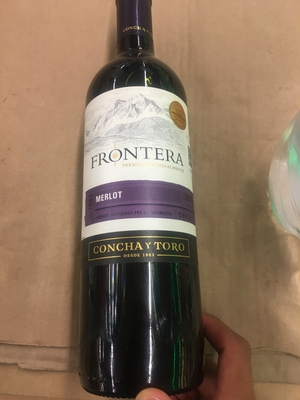frontera merlot: (65, 6, 213, 400)
